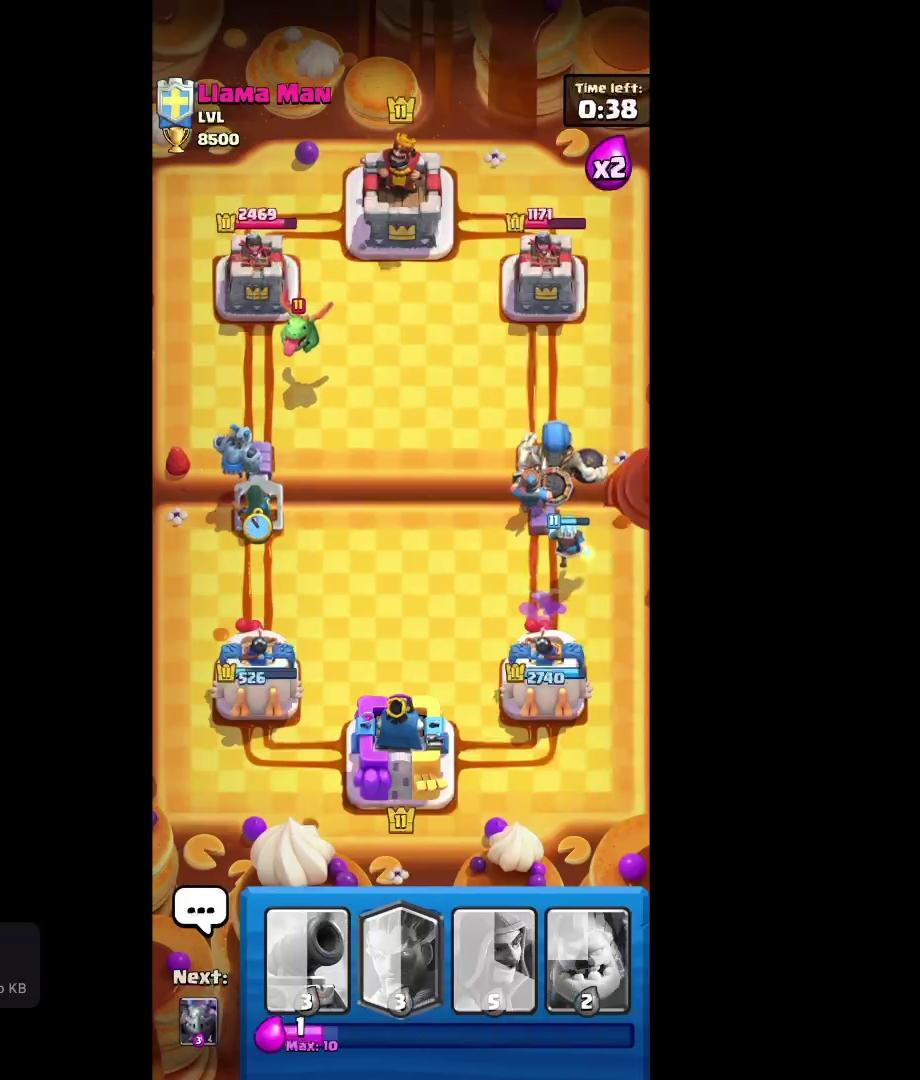Baby Dragon: (270, 286, 346, 368)
